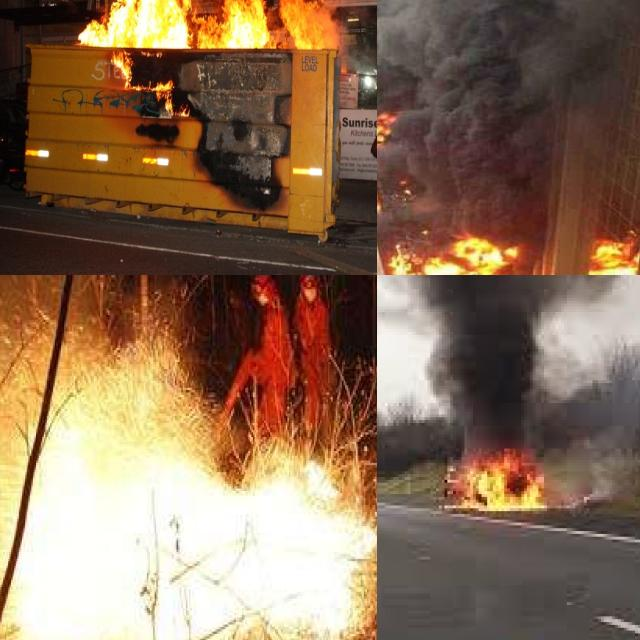fire: (4, 359, 373, 640), (81, 0, 330, 53), (425, 440, 561, 523), (381, 233, 507, 275), (582, 235, 640, 275), (377, 107, 401, 162)
smoke: (377, 0, 640, 232), (377, 275, 635, 448), (544, 428, 629, 502)
